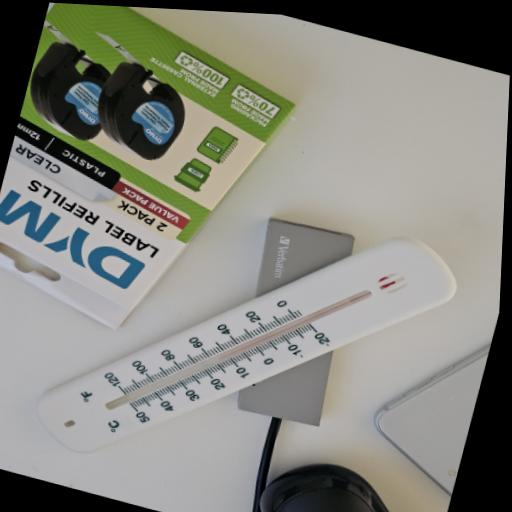thermometer: (13, 141, 477, 512)
